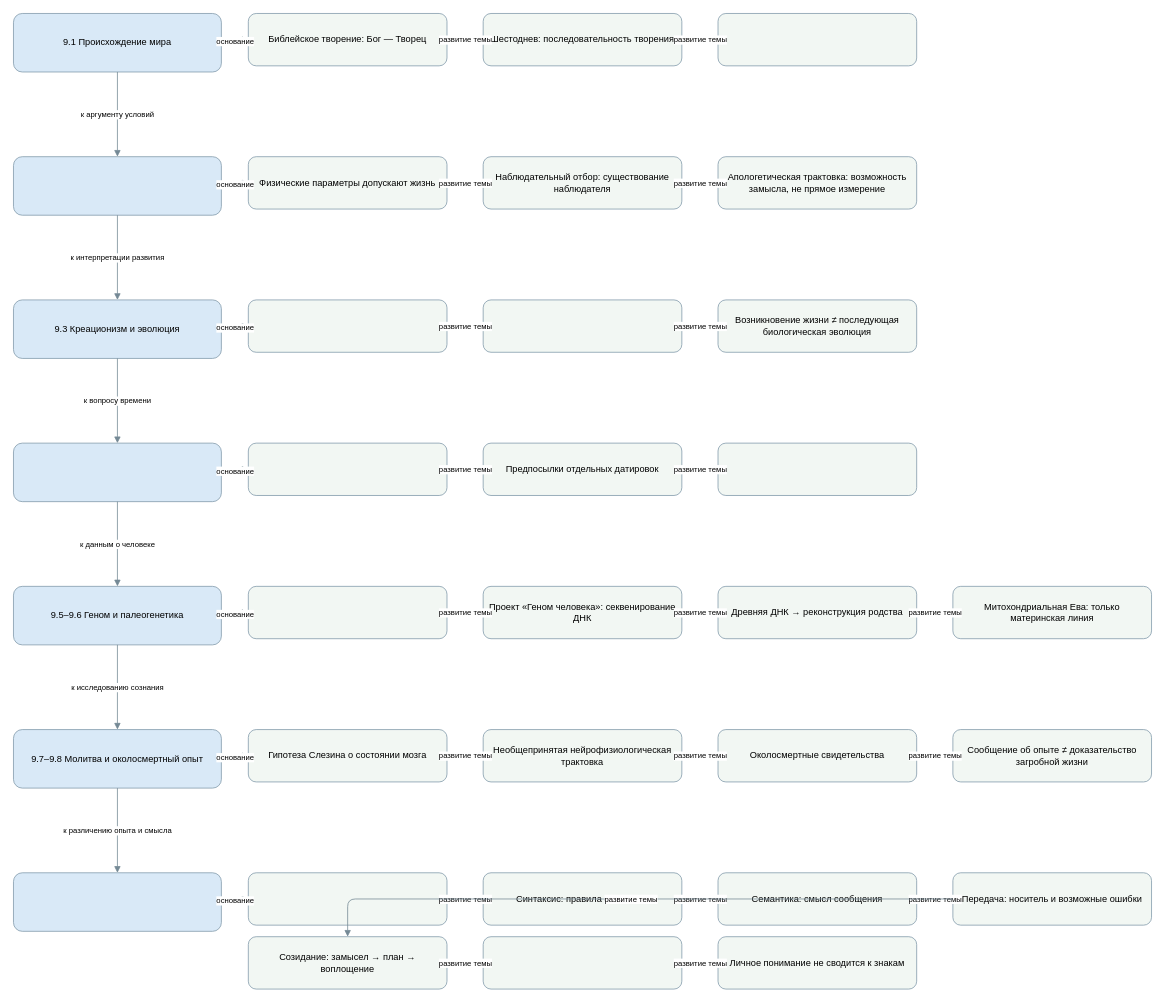
This 1165x1003 diagram has some shape labels left out. Here are the shapes that lost their labels. From the top down, the box of each, then its label:
(717, 13, 917, 66): Сопоставление с космологией требует различать жанр и модель
(13, 156, 221, 215): 9.2 Антропный принцип
(248, 299, 447, 352): Творение как акт Бога
(482, 299, 682, 352): Развитие по данным Богом законам
(13, 442, 221, 502): 9.4 Возраст Земли
(248, 442, 447, 495): Младоземельная интерпретация
(717, 442, 917, 495): Современная геохронология: отличающаяся научная оценка
(248, 586, 447, 639): 46 хромосом: 44 аутосомы + 2 половые
(13, 872, 221, 931): 9.9 Информация: от кода к смыслу
(248, 872, 447, 925): Код: различимые знаки
(482, 936, 682, 989): ДНК → РНК → белок
